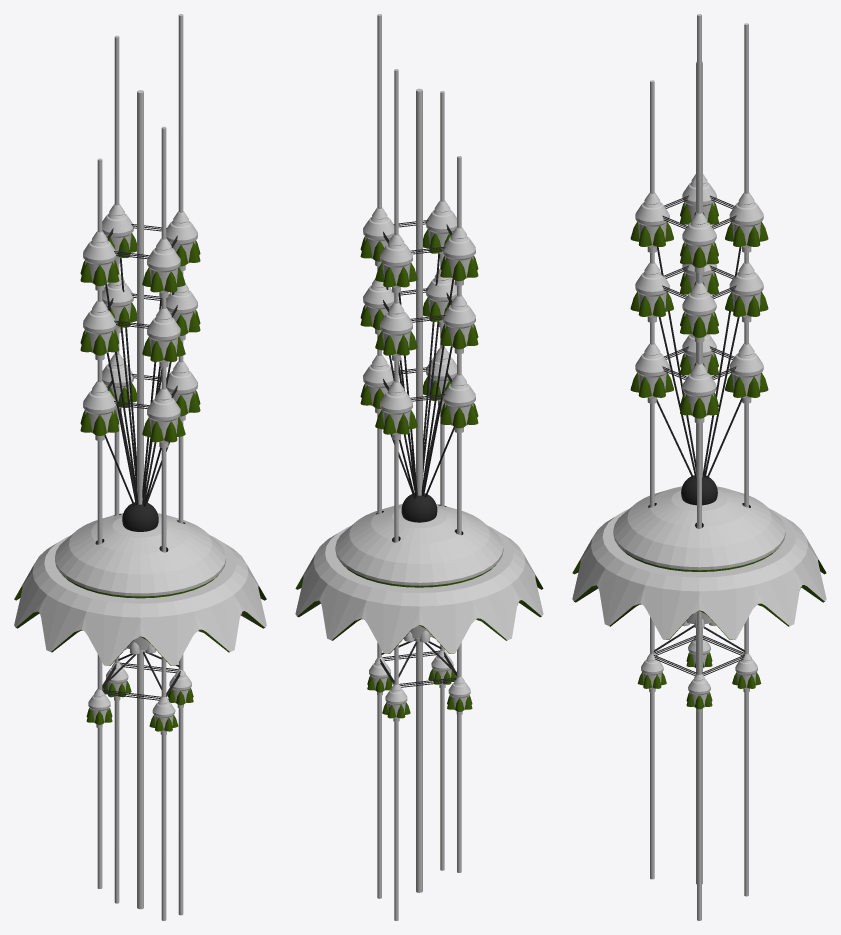
Rendered from chandelier_07c6d211.glb.
3 views of the same model, side by side, from view 1: azimuth 30°, elevation 25°; view 2: azimuth 150°, elevation 25°; view 3: azimuth 270°, elevation 25° (orthographic). The views are drawn at different scales.
Visible parts, largest first — view 1: Line028; view 2: Line028; view 3: Line028.
Boxes of the visible parts, x1,y1,x2,y2 form: Line028: (14,14,266,920); Line028: (295,14,543,920); Line028: (572,14,826,920).
Bounding box in the file's own units: 53.63 × 211 × 53.63.
